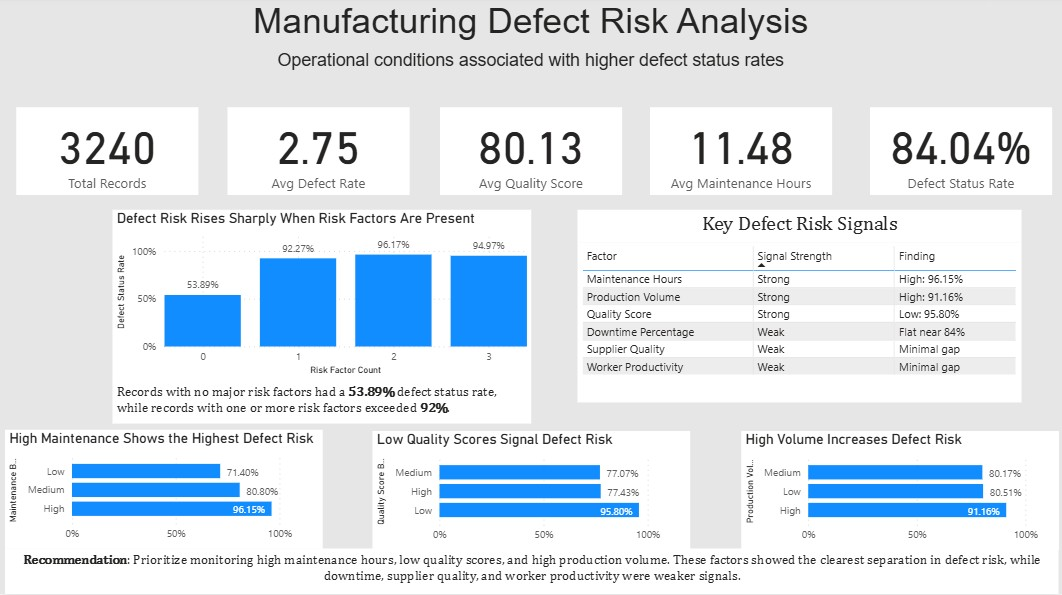

The dashboard page shown, as its layout file describes it:
{"tool":"powerbi","page":{"name":"Page 1","canvas":[1280,720],"ordinal":0},"visuals":[{"type":"textbox","box":[86.4,0,1106,60.4],"z":0},{"type":"textbox","box":[86.4,60.4,1106,60.4],"z":1000},{"type":"card","fields":{"Values":["manufacturing_data.Total Records"]},"box":[19.2,134.5,219.6,105.7],"z":2000},{"type":"card","fields":{"Values":["manufacturing_data.Defect Status Rate"]},"box":[1047,134.5,219.6,105.7],"z":3000},{"type":"card","fields":{"Values":["manufacturing_data.Avg Defect Rate"]},"box":[273.1,134.5,219.6,105.7],"z":4000},{"type":"card","fields":{"Values":["manufacturing_data.Avg Quality Score"]},"box":[529.7,134.5,219.6,105.7],"z":5000},{"type":"card","fields":{"Values":["manufacturing_data.Avg Maintenance Hours"]},"box":[782.2,134.5,219.6,105.7],"z":6000},{"type":"clusteredColumnChart","title":"Defect Risk Rises Sharply When Risk Factors Are Present","fields":{"Category":["manufacturing_data.Risk Factor Count"],"Y":["manufacturing_data.Defect Status Rate"]},"box":[135.4,257.3,504,204.6],"z":7000},{"type":"textbox","box":[6,665,1268.3,55.7],"z":8000},{"type":"tableEx","fields":{"Values":["SignalStrength.Factor","SignalStrength.Signal Strength","SignalStrength.Finding"]},"box":[695.1,296.4,534.1,192.6],"z":9000},{"type":"textbox","box":[695.1,257.3,534.1,39.1],"z":10000},{"type":"clusteredBarChart","title":"High Maintenance Shows the Highest Defect Risk","fields":{"Category":["manufacturing_data.Maintenance Band"],"Y":["manufacturing_data.Defect Status Rate"]},"box":[6,522.1,382.1,142.9],"z":11000},{"type":"clusteredBarChart","title":"Low Quality Scores Signal Defect Risk","fields":{"Category":["manufacturing_data.Quality Score Band"],"Y":["manufacturing_data.Defect Status Rate"]},"box":[448.3,523.6,382.1,142.9],"z":12000},{"type":"clusteredBarChart","title":"High Volume Increases Defect Risk","fields":{"Category":["manufacturing_data.Production Volume Band"],"Y":["manufacturing_data.Defect Status Rate"]},"box":[892.2,523.6,382.1,142.9],"z":13000},{"type":"textbox","box":[135.4,461.9,504,52.7],"z":14000}]}

Visuals, with their boxes in screenshot pixels (x1, y1, x2, y2), scaled from the page's 1280x720 canvas onto the 1062x595 screenshot:
textbox: 72,0,989,50
textbox: 72,50,989,100
card - manufacturing_data.Total Records: 16,111,198,198
card - manufacturing_data.Defect Status Rate: 869,111,1051,198
card - manufacturing_data.Avg Defect Rate: 227,111,409,198
card - manufacturing_data.Avg Quality Score: 439,111,622,198
card - manufacturing_data.Avg Maintenance Hours: 649,111,831,198
"Defect Risk Rises Sharply When Risk Factors Are Present" clusteredColumnChart: 112,213,531,382
textbox: 5,550,1057,594
tableEx - SignalStrength.Factor x SignalStrength.Signal Strength: 577,245,1020,404
textbox: 577,213,1020,245
"High Maintenance Shows the Highest Defect Risk" clusteredBarChart: 5,431,322,550
"Low Quality Scores Signal Defect Risk" clusteredBarChart: 372,433,689,551
"High Volume Increases Defect Risk" clusteredBarChart: 740,433,1057,551
textbox: 112,382,531,425
